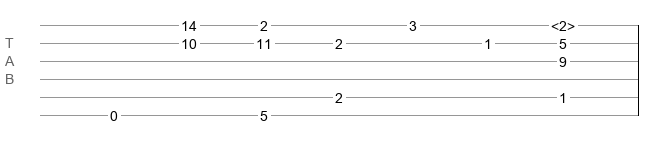0: (110, 108, 118, 118)
1: (484, 36, 492, 46), (559, 90, 567, 100)
10: (181, 36, 197, 46)
11: (256, 36, 272, 46)
14: (181, 18, 197, 28)
2: (260, 18, 268, 28), (335, 90, 343, 100), (335, 36, 343, 46)
3: (409, 18, 417, 28)
5: (260, 108, 268, 118), (559, 36, 567, 46)
9: (559, 54, 567, 64)
harmonic: (551, 18, 575, 28)
